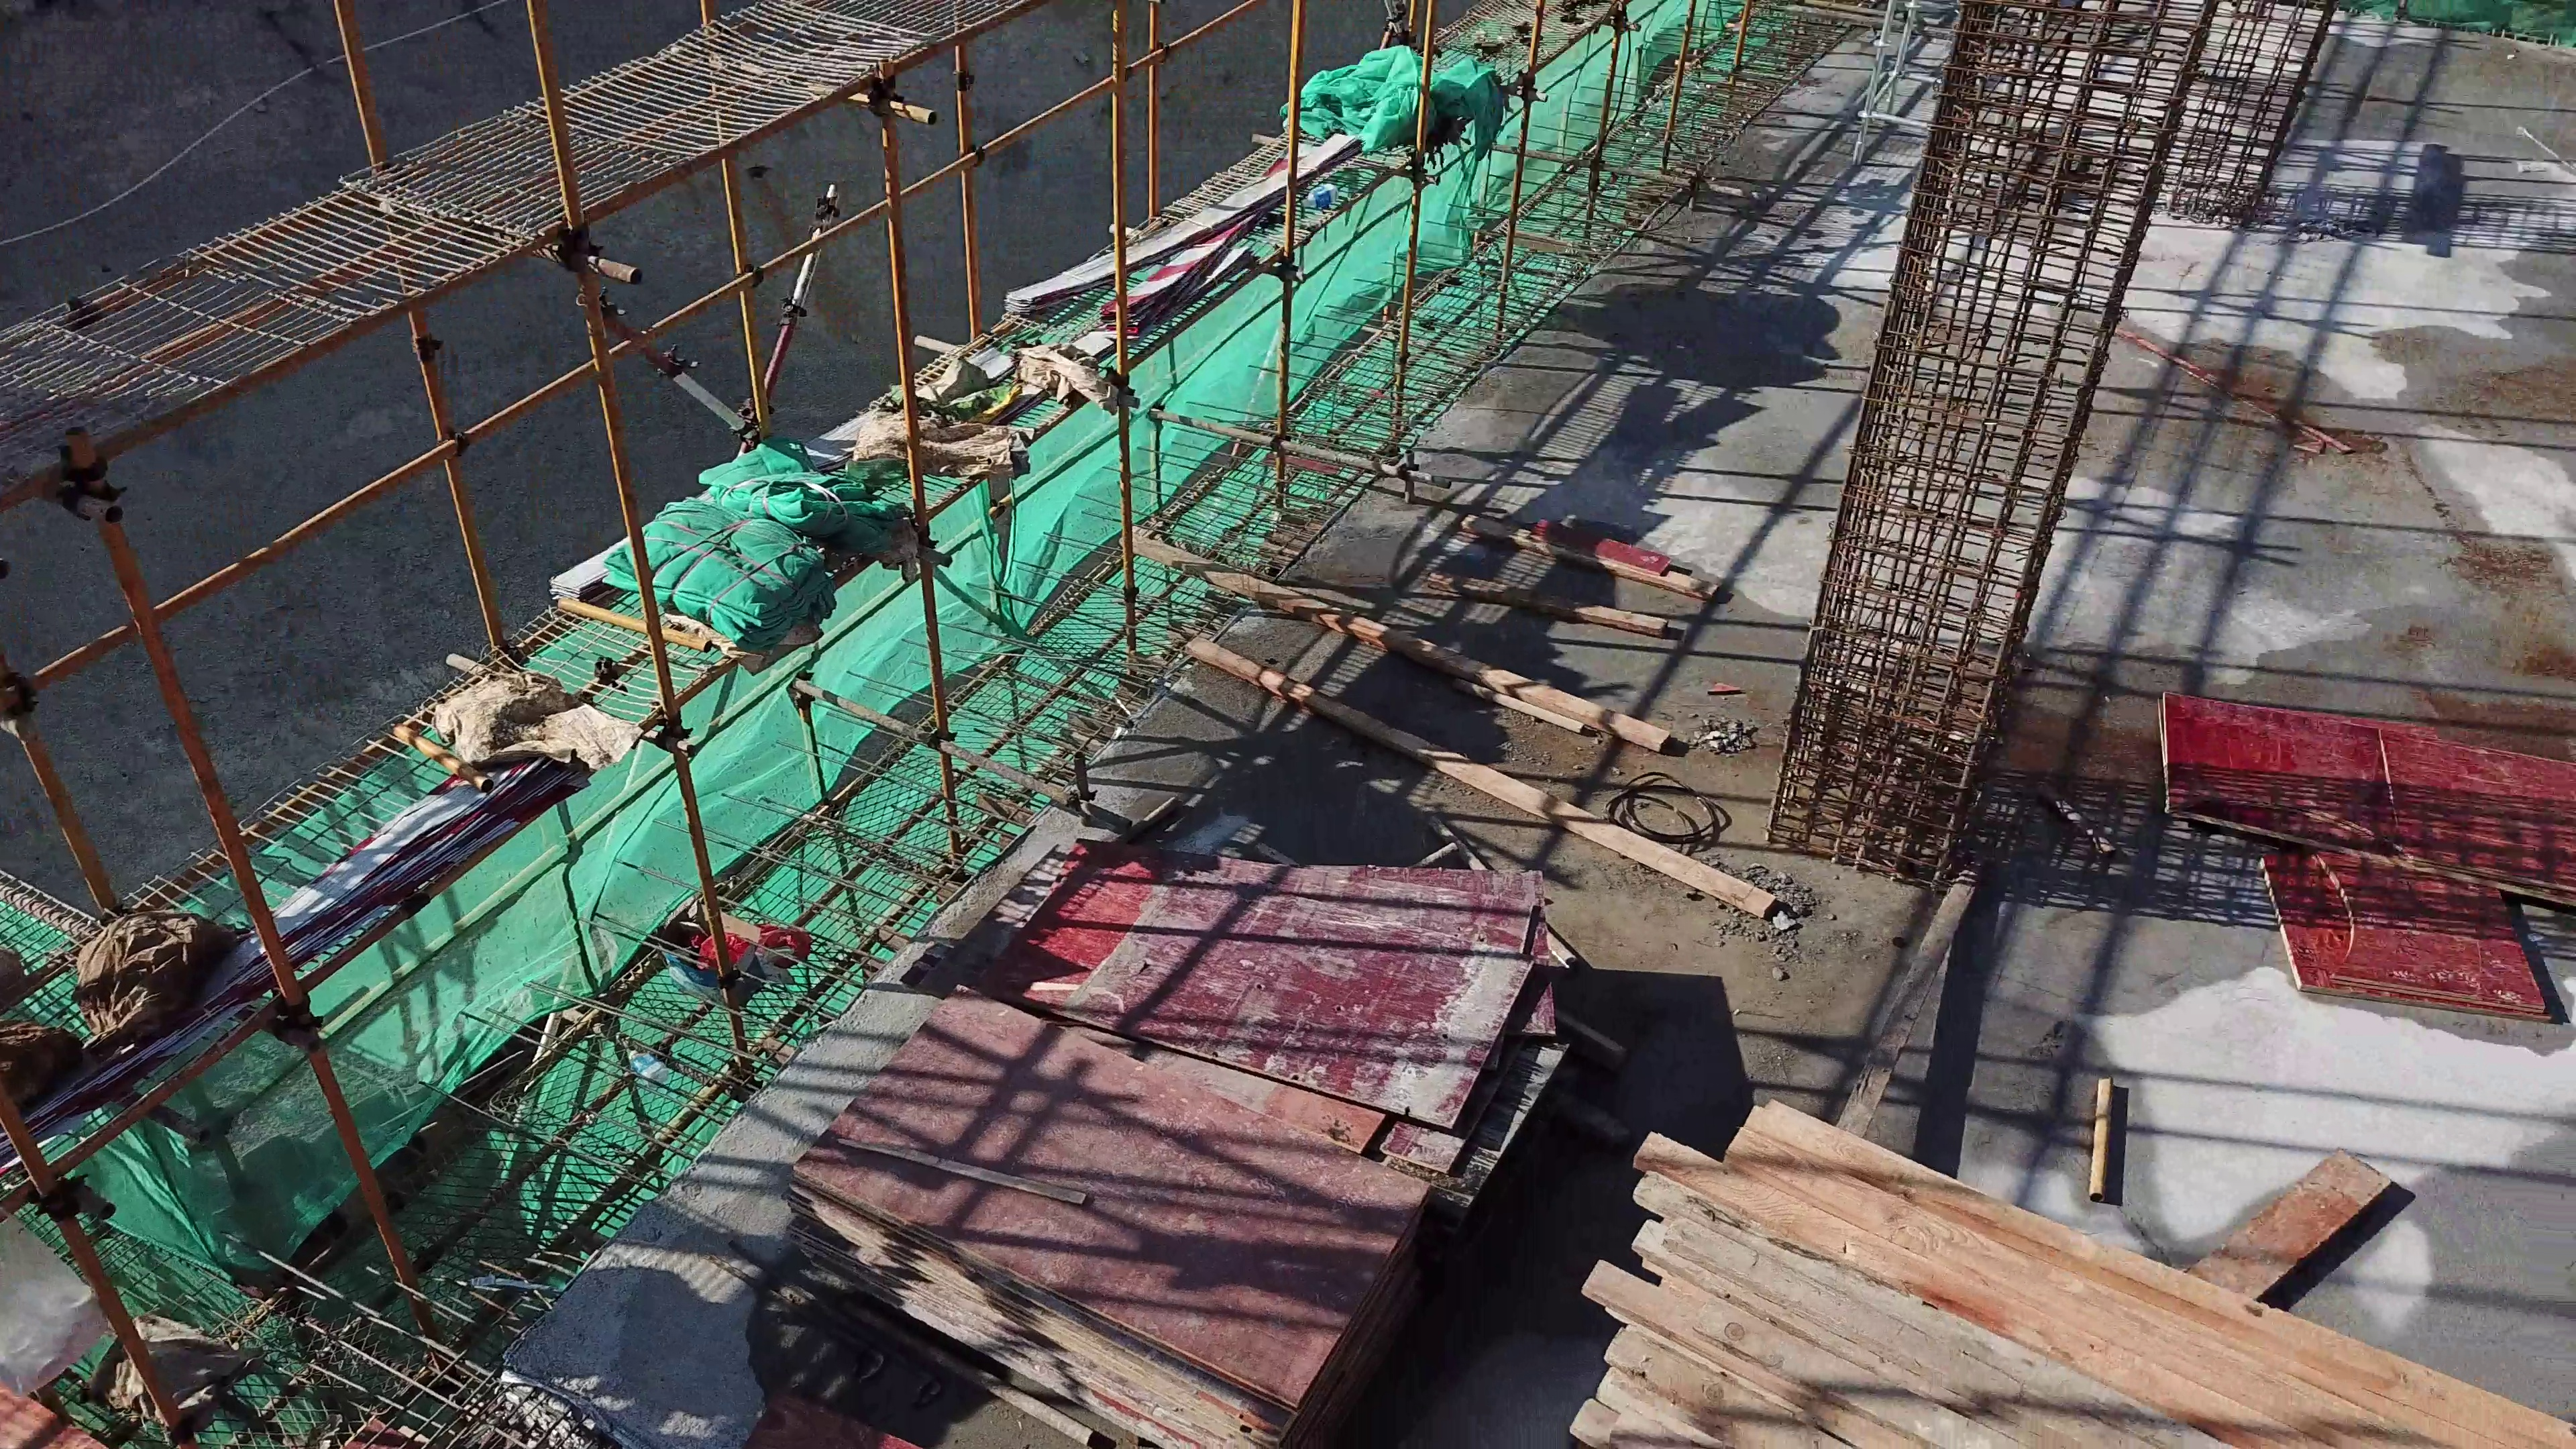board: (794, 824, 1594, 1449), (2146, 674, 2576, 1046)
wood: (1541, 1054, 2576, 1447)
